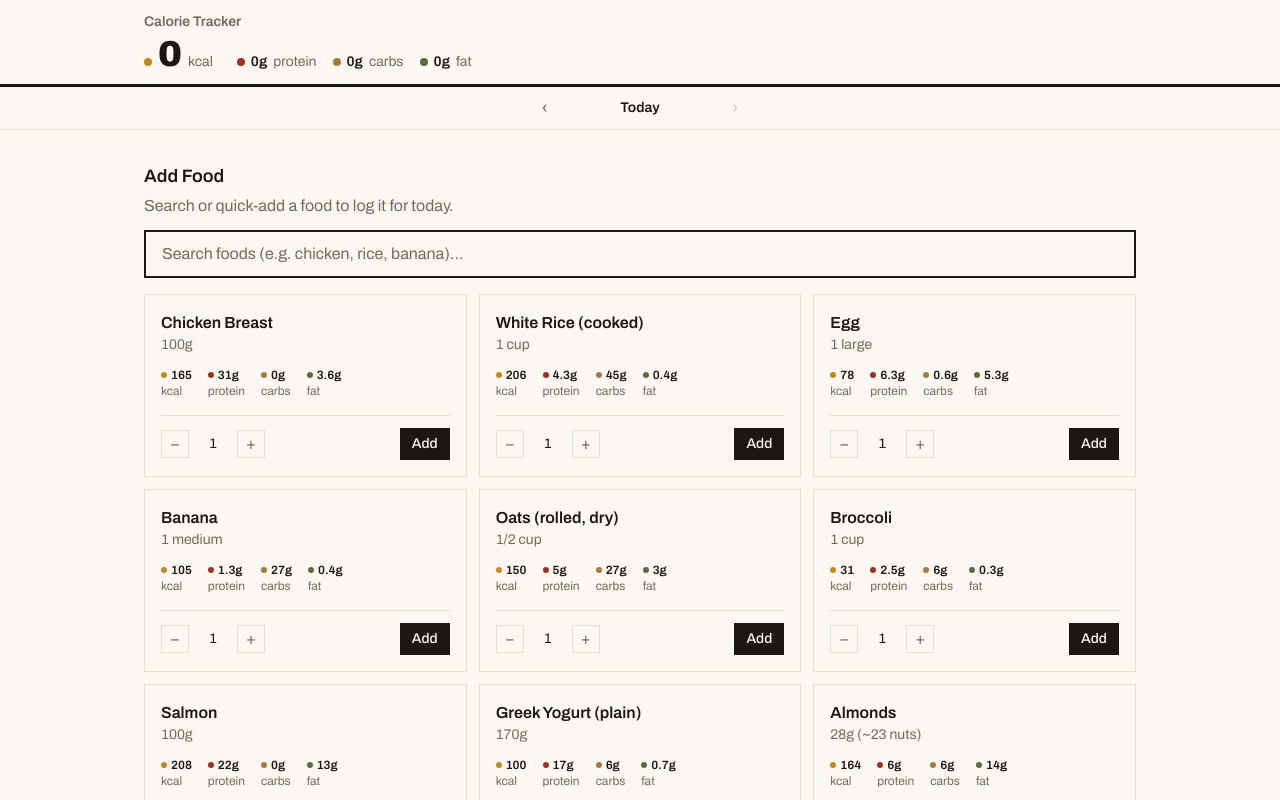
Scenario: App (integration: search -> add -> log display -> totals -> delete -> date navigation) › adding two foods lists the most recently added one first, and removing it (with confirm) restores the total
In the field labelled "Search foods (e.g. chicken, rice, banana)…": (640, 254) [144,230,1136,278], type "Egg"
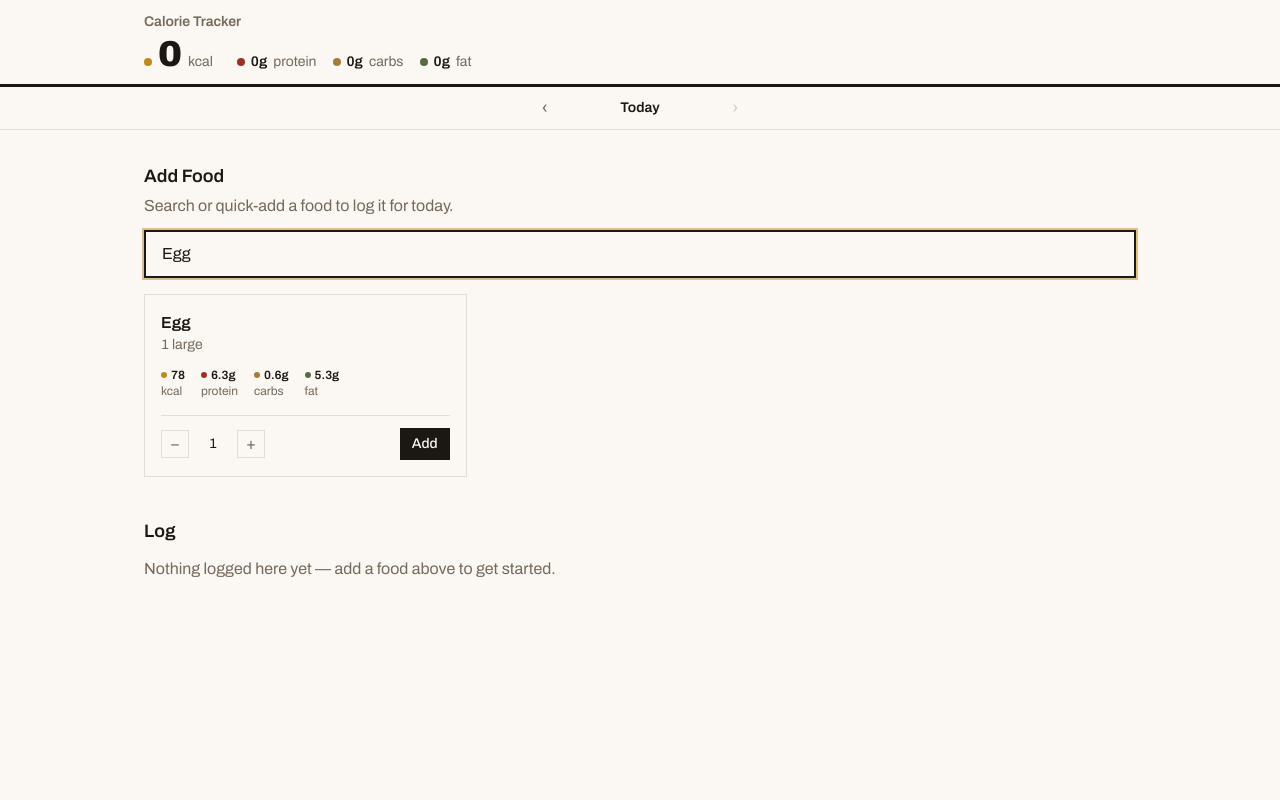
Click the button "Add": (425, 444) [400,428,450,460]
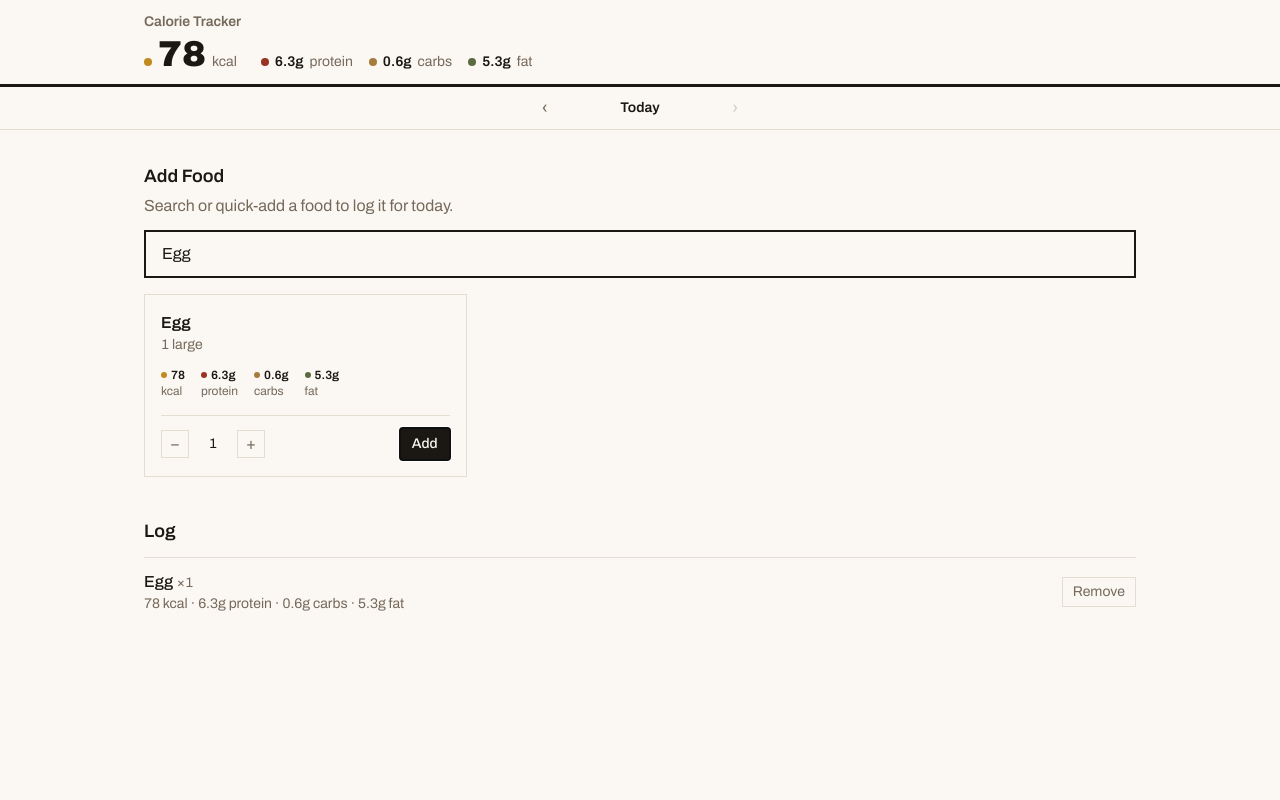
Replace the text in the field named "Search foods" with "Banana": (640, 254) [144,230,1136,278]
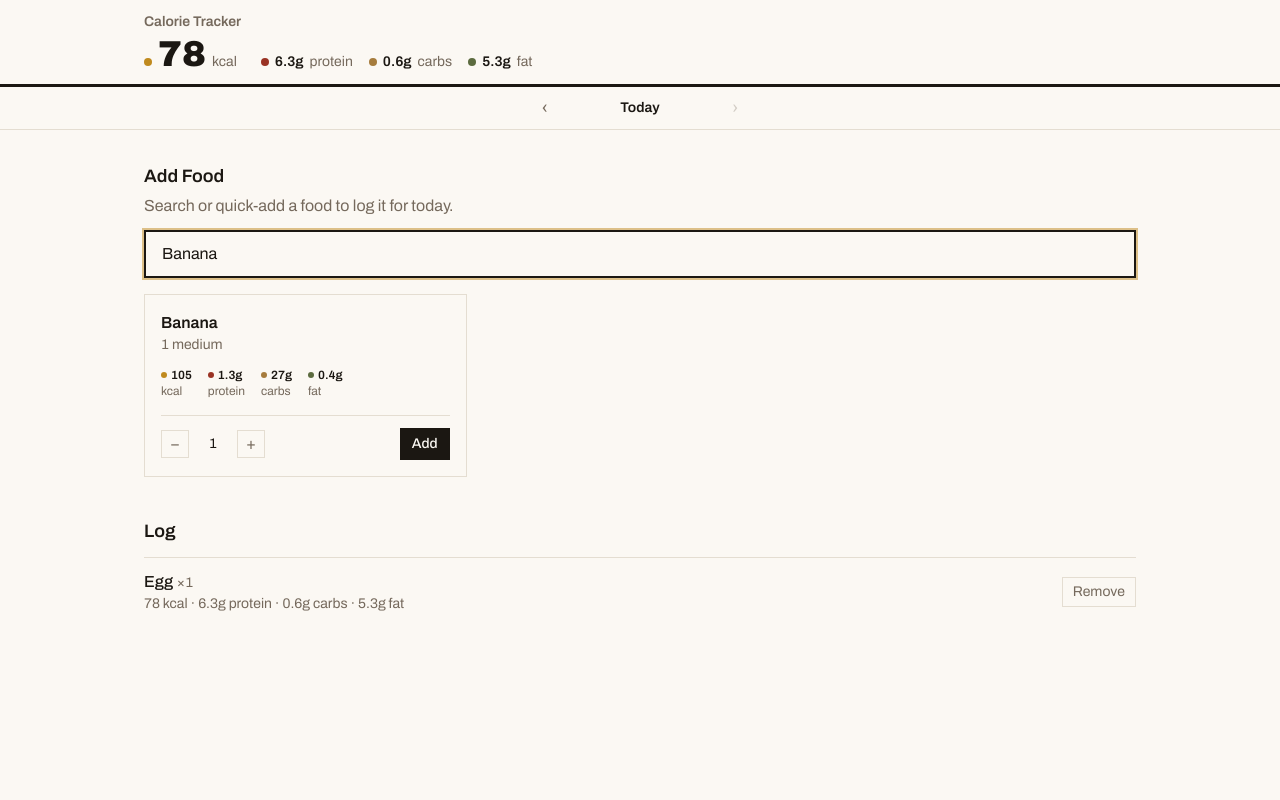
Click the button "Add": (425, 444) [400,428,450,460]
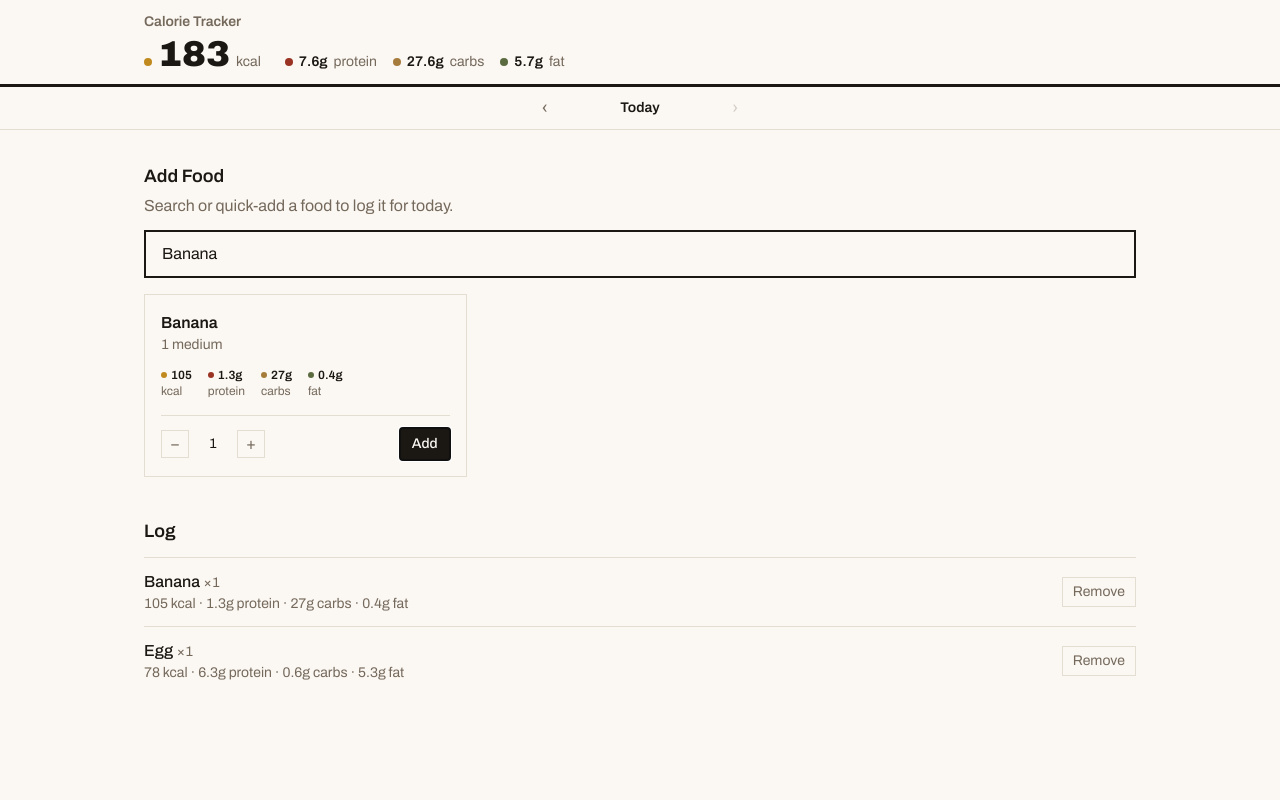
Check: the list item "Egg ×1 78 kcal · 6.3g protein · 0.6g carbs · 5.3g fat Remove" is shown, box [144,642,1136,680]
Check: the number of list items is 2, box [144,558,1136,627]; [144,642,1136,680]
Check: the list item that starts with "Banana" is shown, box [144,573,200,590]
Remove Banana, which requires a confirm click.
Click the button with aria-label "remove banana": (1099, 592) [1062,577,1136,607]
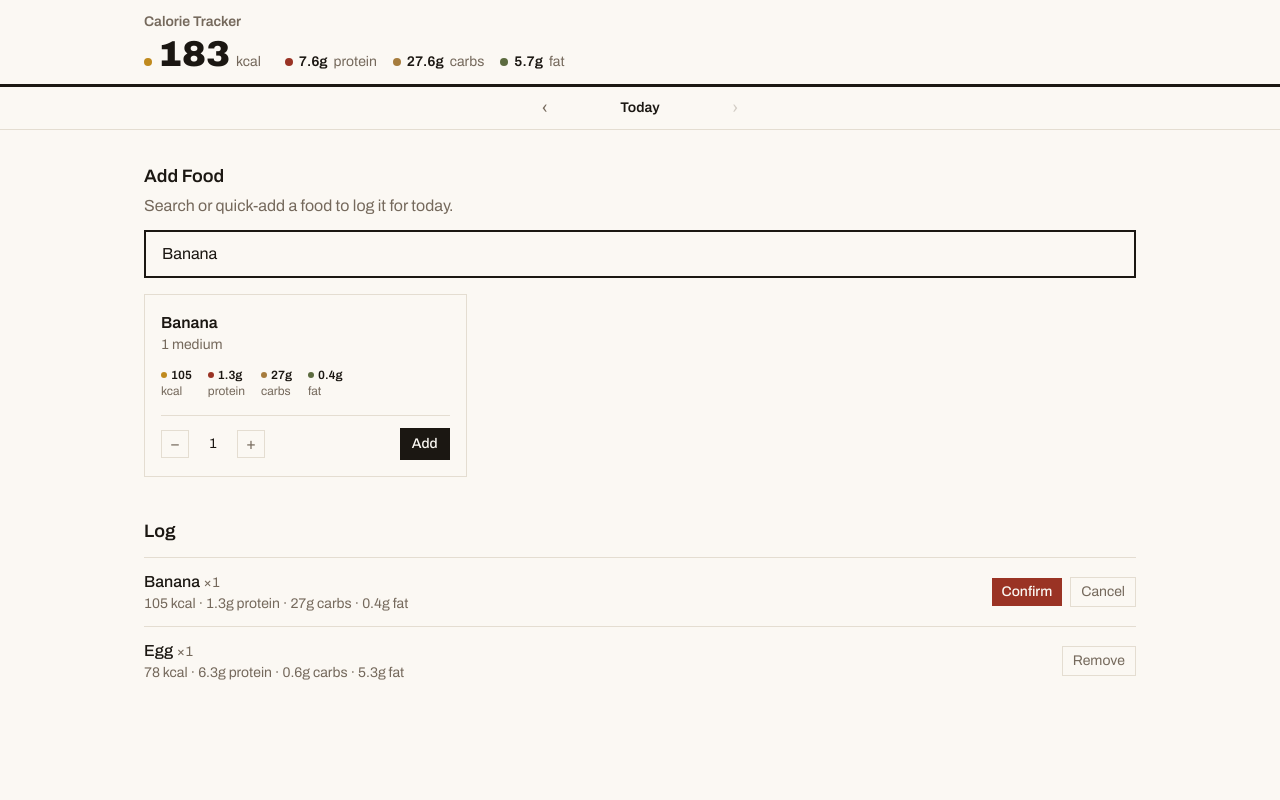
Click the button "Confirm": (1027, 592) [992,578,1062,606]
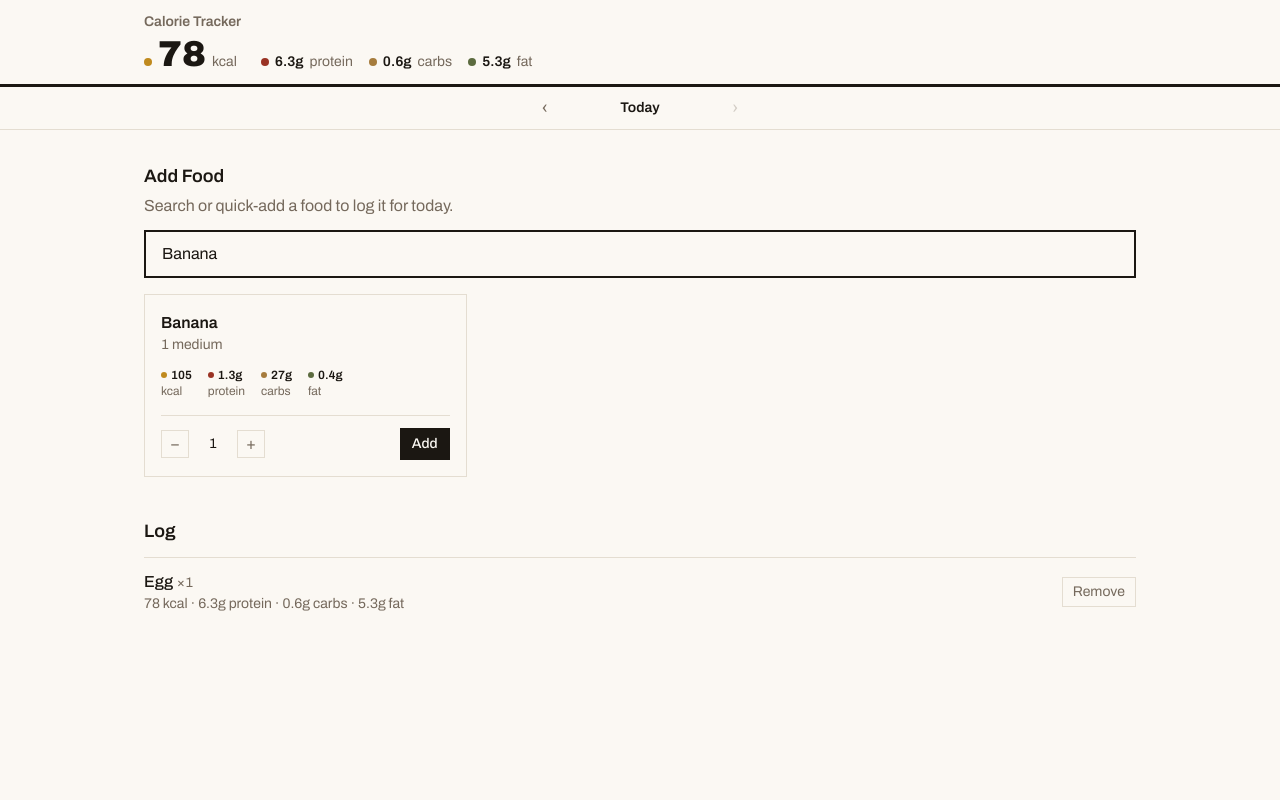
Check: the list item shows "Egg", box [144,573,173,590]
Check: the number of list items is 1, box [144,573,1136,611]
Check: the text "78" is shown, box [158,36,206,72]
